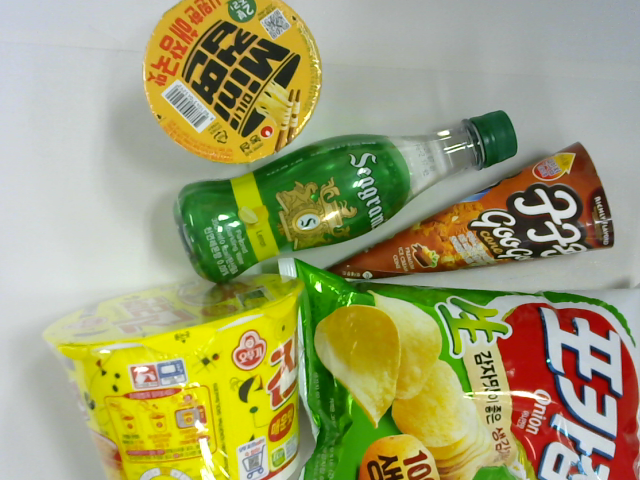GooGoo_Cone_CVS: (313, 143, 616, 284)
Hejangmini: (142, 1, 324, 165)
Jinlamyeon_Hot_Taste_Large_Cup: (42, 273, 309, 480)
Pocachip_Onion: (279, 255, 640, 480)
Seagram_Lemon_Carbonated_Water: (172, 110, 525, 281)
